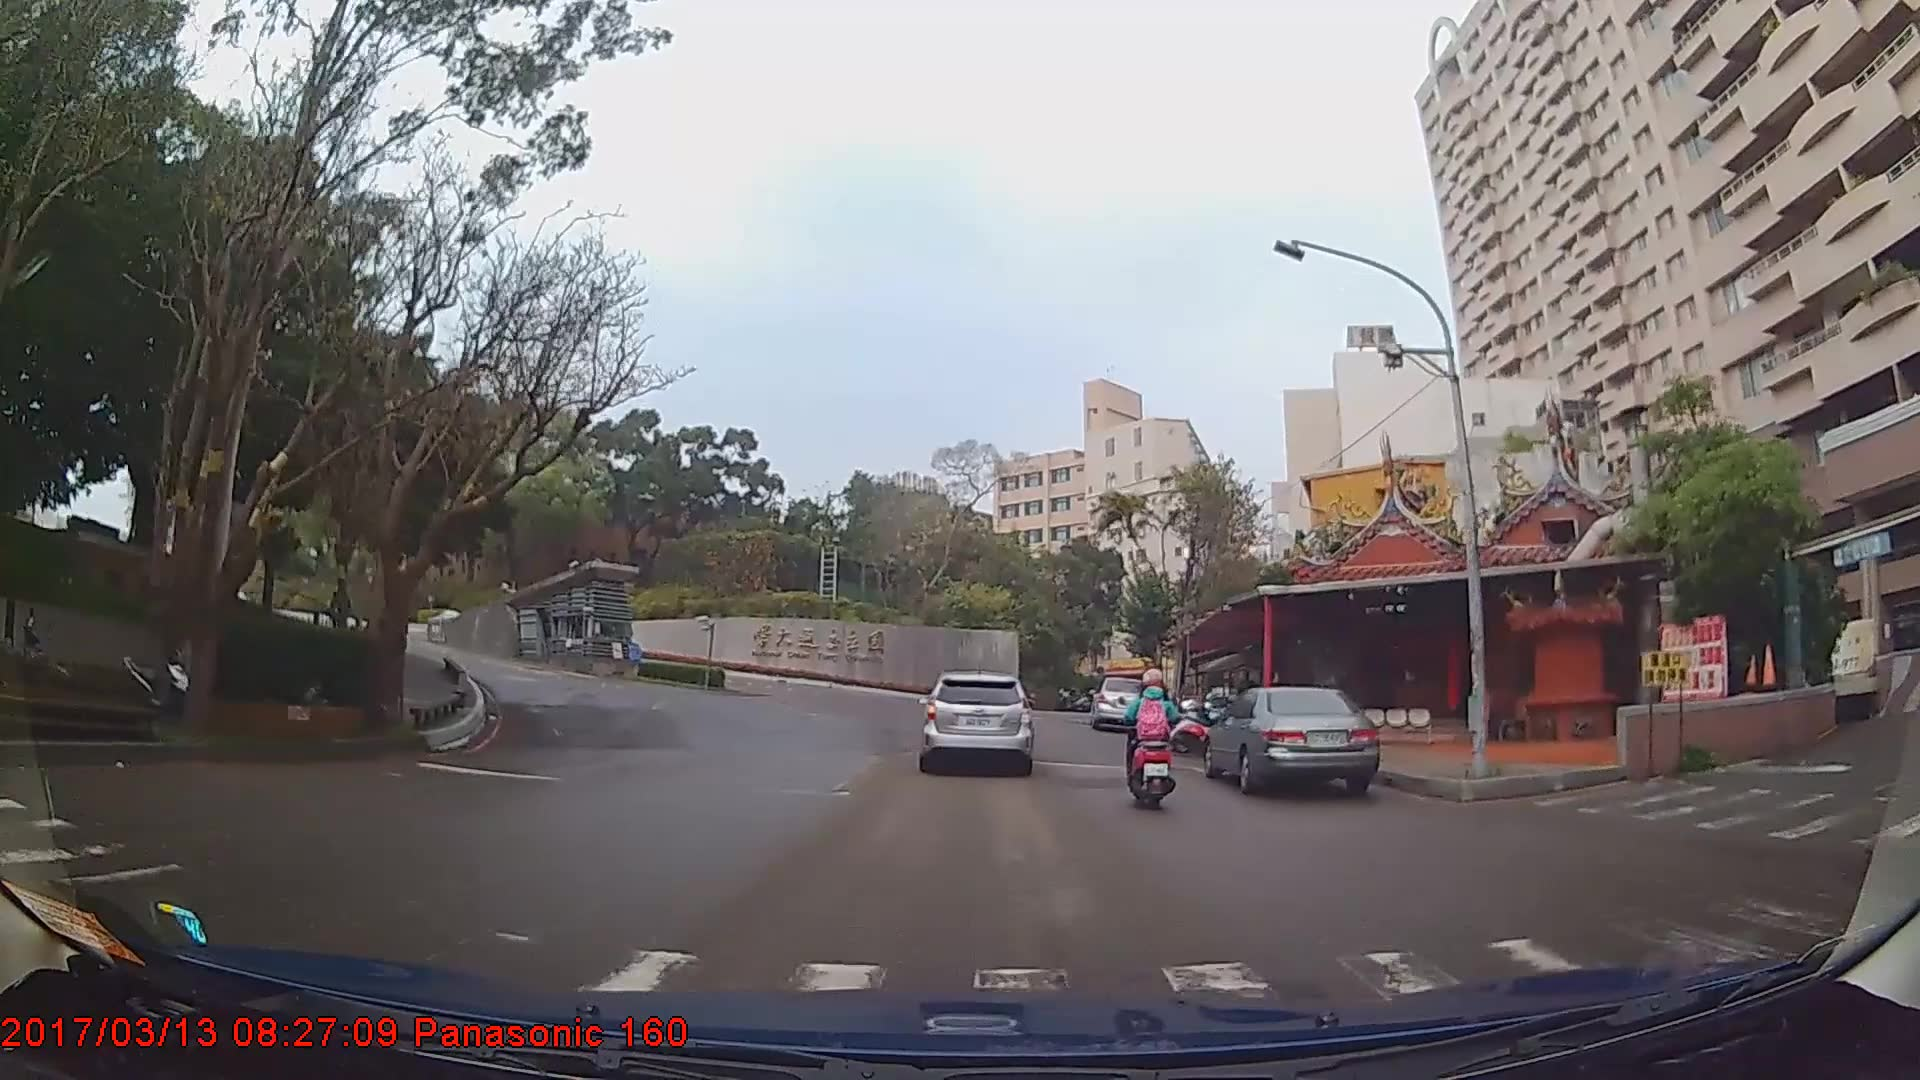rider: (1122, 662, 1185, 813)
vehicle: (1199, 685, 1379, 801), (919, 670, 1032, 774), (1089, 675, 1146, 729)
